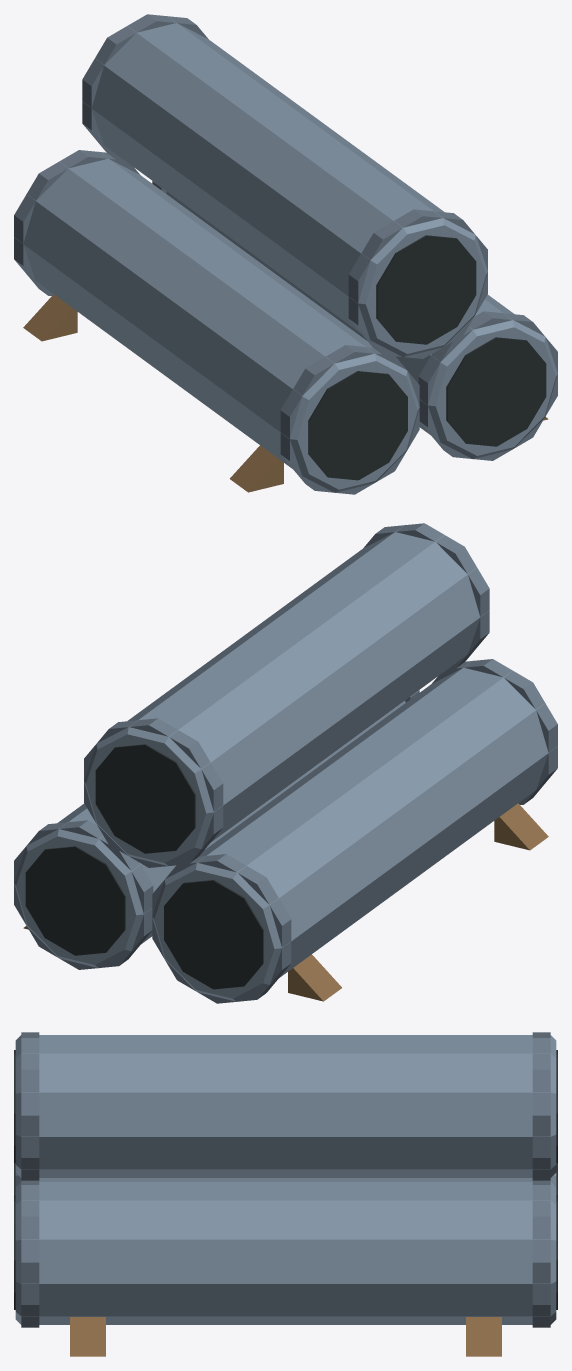
Rendered from pipeStack.glb.
3 renders of one model, top to bottom at view 1: azimuth 30°, elevation 25°; view 2: azimuth 150°, elevation 25°; view 3: azimuth 270°, elevation 25°, orthographic. The views are drawn at different scales.
Visible parts, largest first — view 1: pipeStack-m; view 2: pipeStack-m; view 3: pipeStack-m.
Part boxes in pixels (x1,y1,x2,y2): pipeStack-m: (14,14,557,494); pipeStack-m: (14,523,557,1003); pipeStack-m: (14,1032,557,1356).
Bounding box in the file's own units: 1.85 × 1.54 × 3.02.
